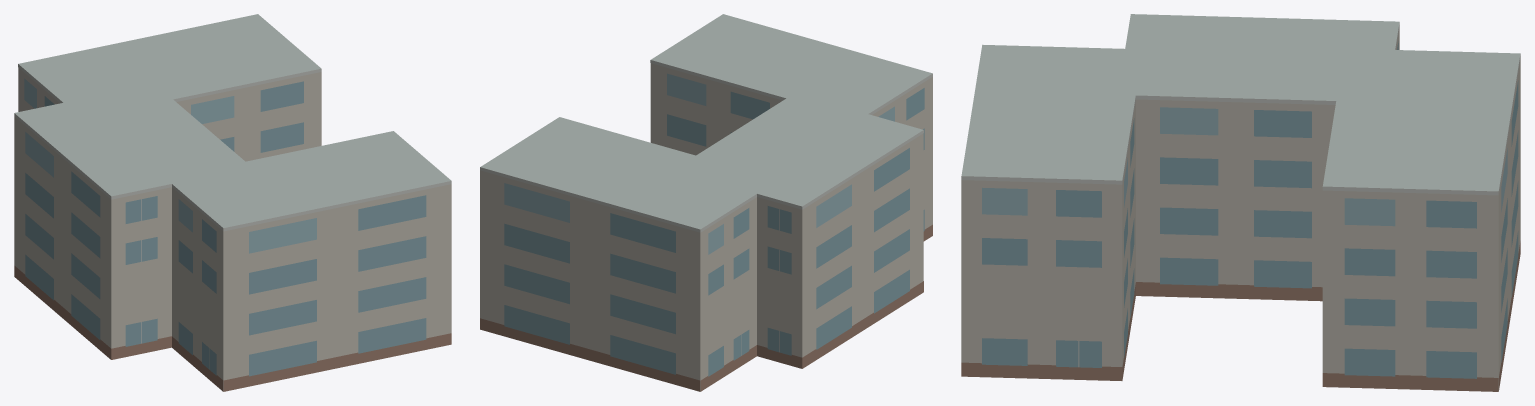
The model's file is residential-8f60148f-b046-4106-8353-cadaec375b6e.glb.
3 renders of one model, left to right at view 1: azimuth 30°, elevation 25°; view 2: azimuth 150°, elevation 25°; view 3: azimuth 270°, elevation 25°, orthographic. The views are drawn at different scales.
Visible parts, largest first — view 1: residential-8f60148f-b046-4106-8353-cadaec375b6e.tmp; view 2: residential-8f60148f-b046-4106-8353-cadaec375b6e.tmp; view 3: residential-8f60148f-b046-4106-8353-cadaec375b6e.tmp.
Part boxes in pixels (x1,y1,x2,y2): residential-8f60148f-b046-4106-8353-cadaec375b6e.tmp: (14,14,451,391); residential-8f60148f-b046-4106-8353-cadaec375b6e.tmp: (480,14,932,391); residential-8f60148f-b046-4106-8353-cadaec375b6e.tmp: (961,14,1520,391).
Bounding box in the file's own units: 23.17 × 12.2 × 30.85.
